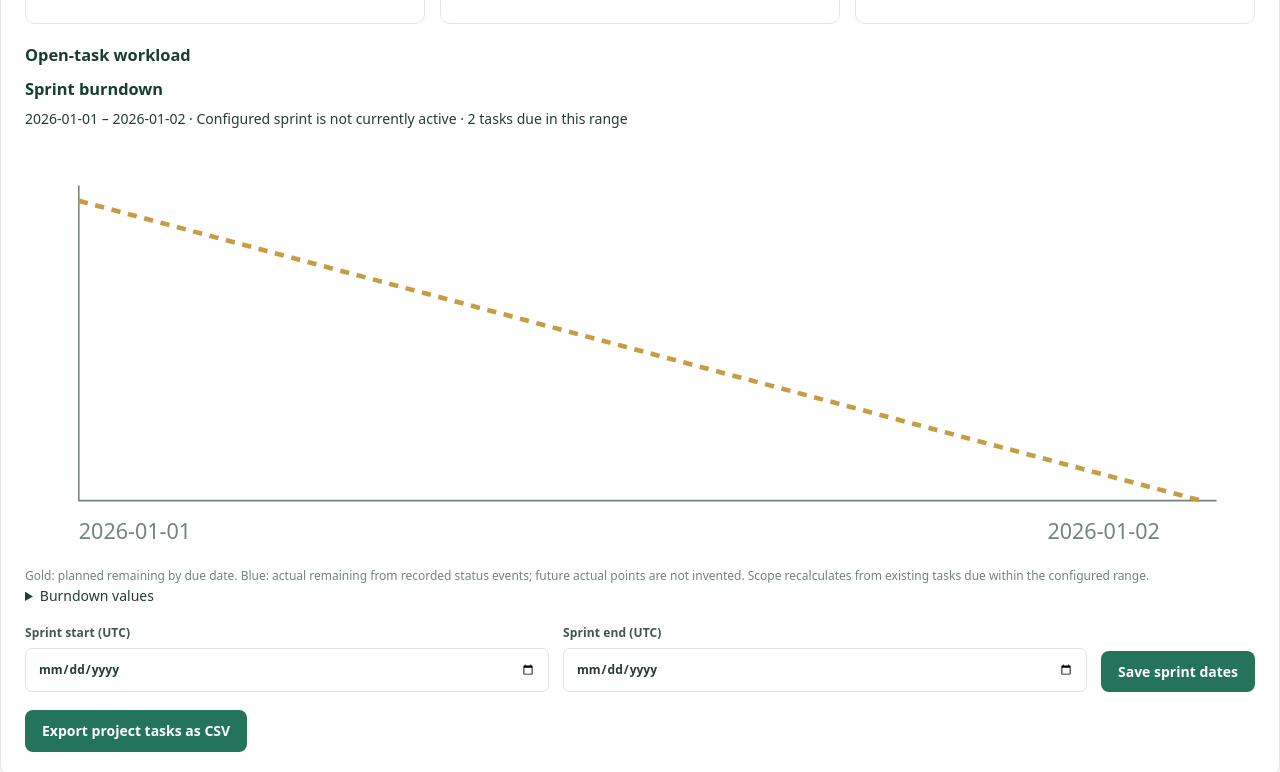
Test: renders the burndown chart and future points as Future
(page scrolled)
Expected: the text "Configured sprint is not currently active" is shown, [196,109,456,128]
Click the heading "Burndown values": (97,596) [40,586,154,605]
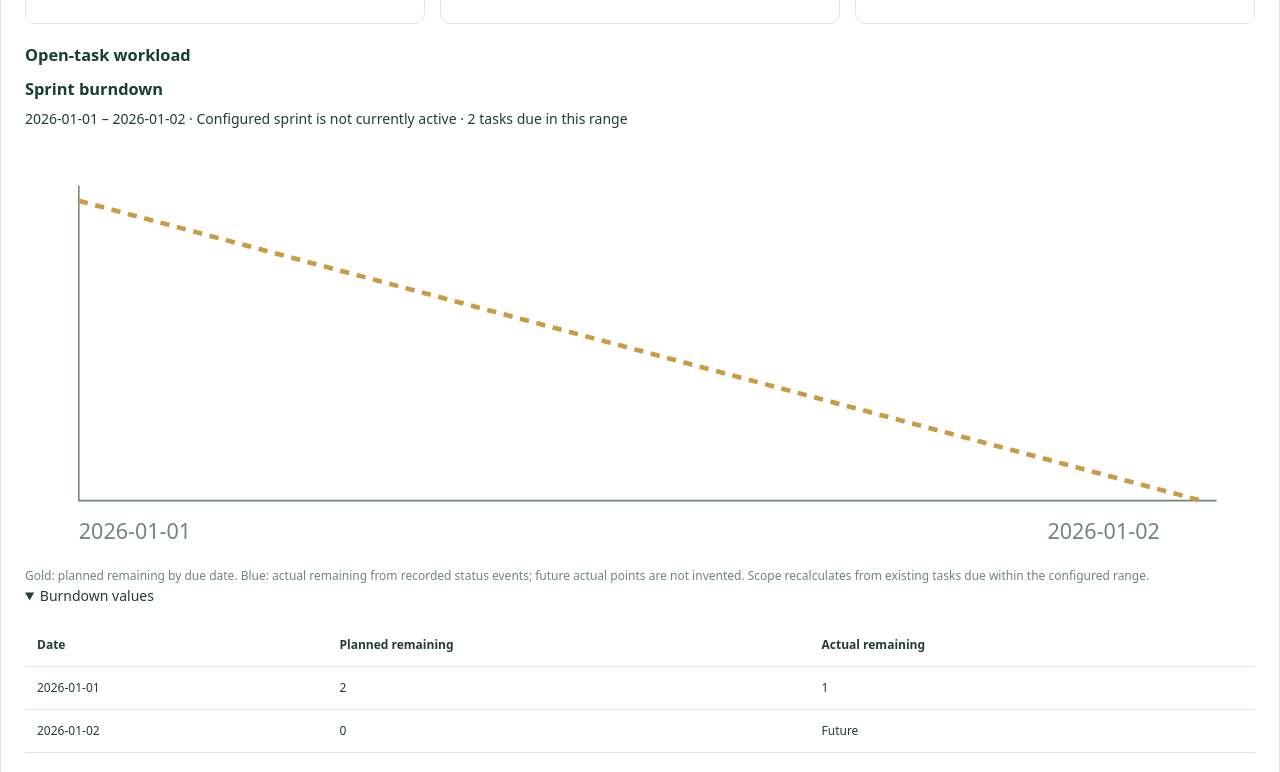
Now the text "Future" is shown, box [810,710,1255,753]
